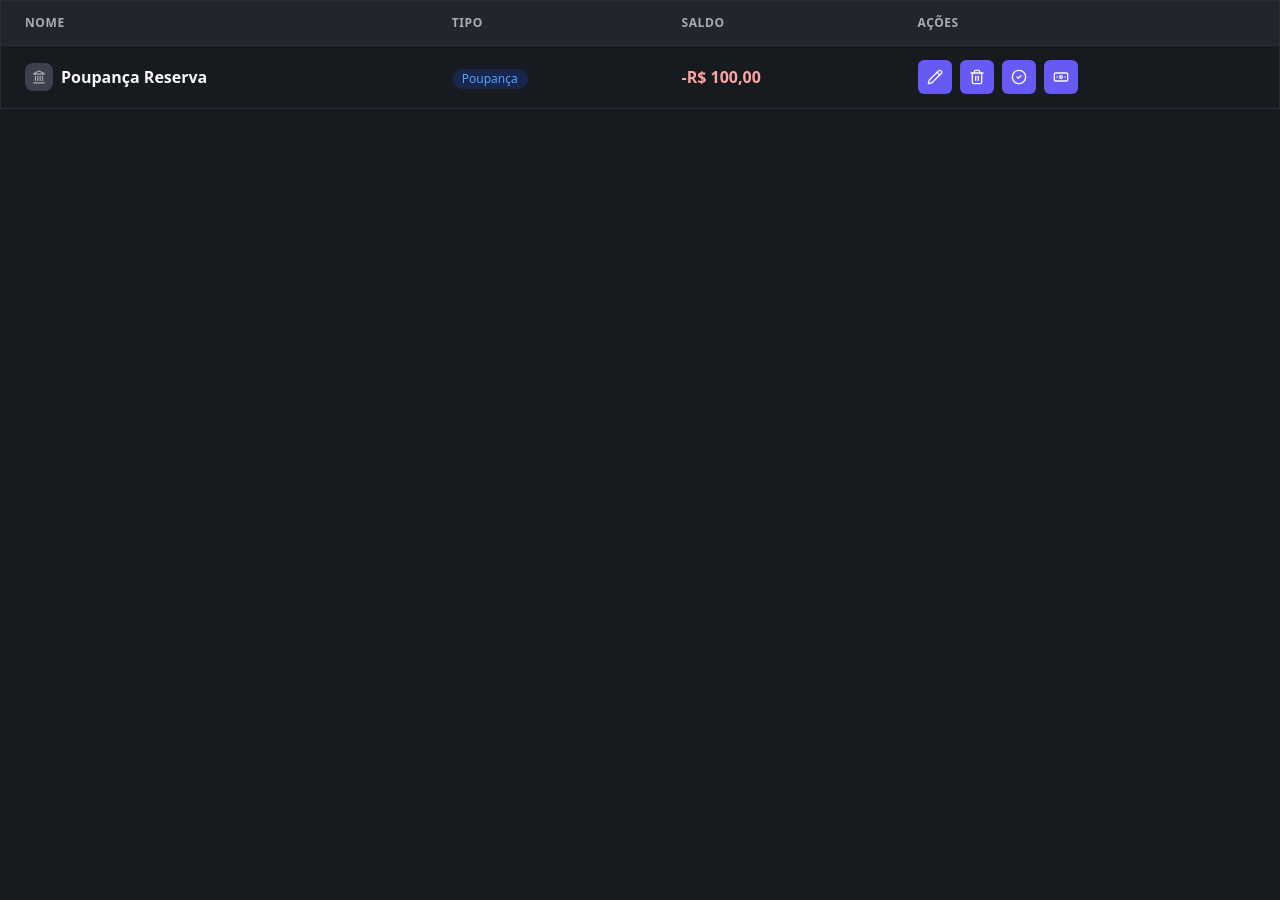
Test: TabelaContas › modal de alteração de status › deve abrir modal 'Ativar Conta' para conta inativa
Step 1. Click the 3rd button → click(1018, 77), box x1=1002 y1=60 x2=1036 y2=94
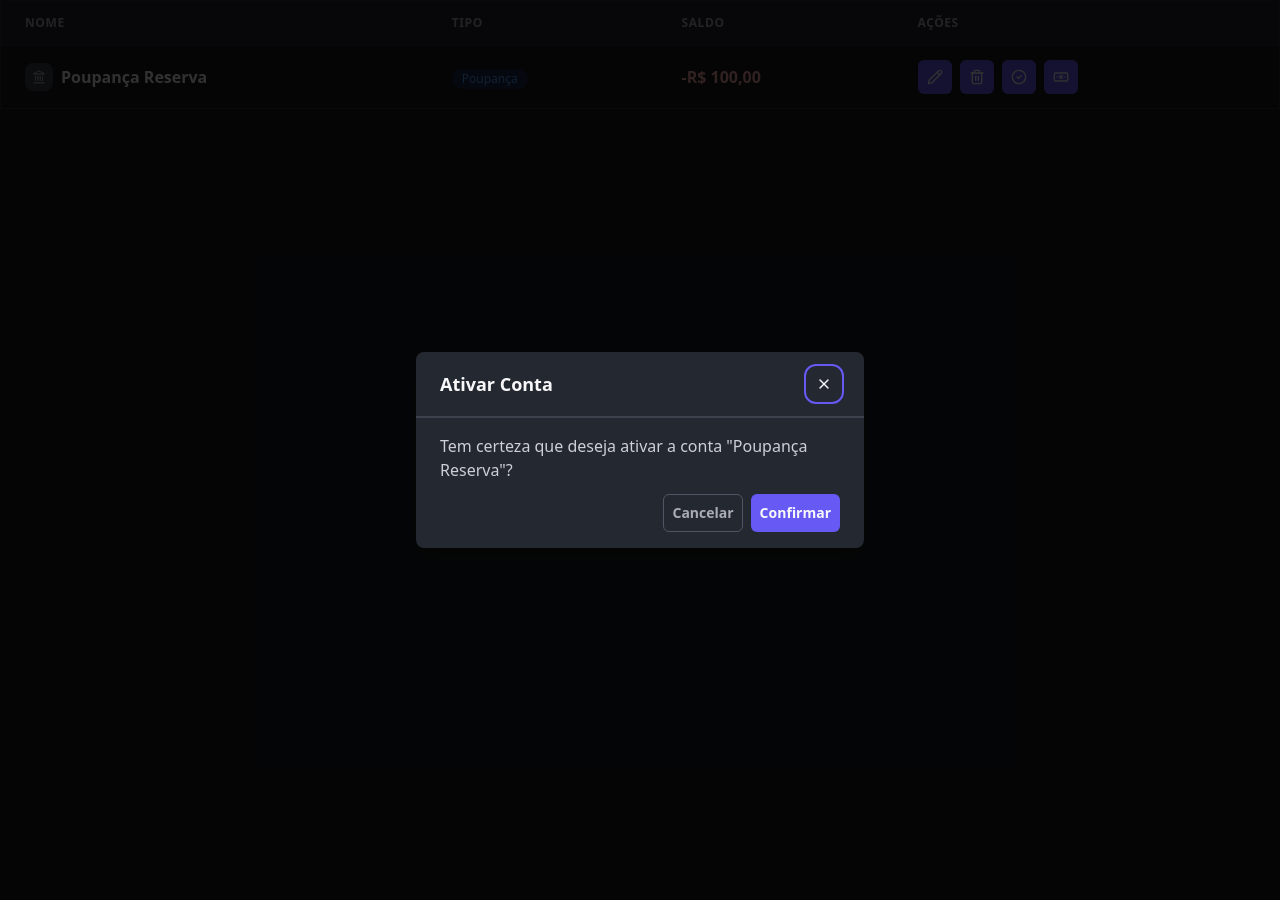
Expected: the dialog "Ativar Conta" is shown, x1=416 y1=352 x2=864 y2=548
